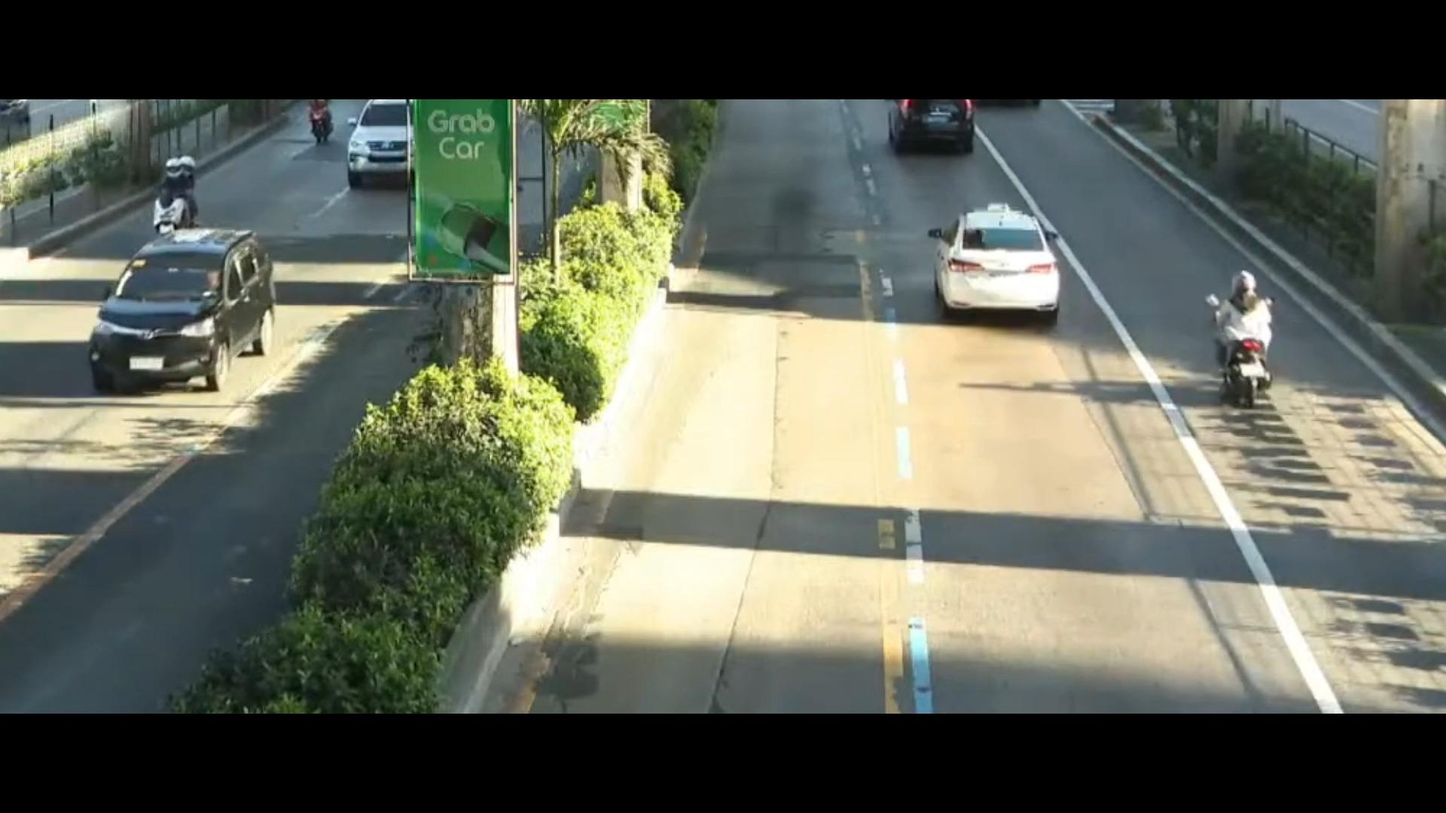Motorcycle: (1185, 260, 1301, 416), (149, 157, 206, 230), (302, 94, 347, 146)
SUV: (72, 217, 288, 414), (334, 102, 423, 198)
Sedan: (911, 187, 1079, 342)
